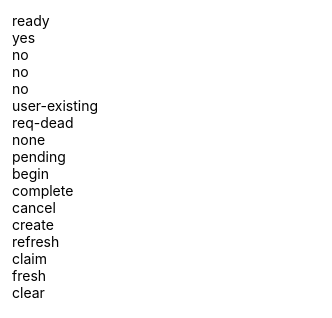
Scenario: ParentalConsentProvider claim intent › EXISTING ACCOUNT START-OVER RECOVERY: clearSession preserves recovery UID
Expected: the text with test id "hydrate" reads "ready", top-left (12, 12), bottom-right (50, 29)
Click the text with test id "clear" at (28, 292), box top-left (12, 284), bottom-right (45, 301)
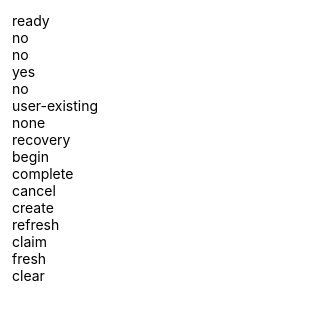
Expected: the text with test id "pending-uid" reads "user-existing", top-left (12, 97), bottom-right (98, 114)
Now the text with test id "fresh" reads "yes", box top-left (12, 63), bottom-right (35, 80)
